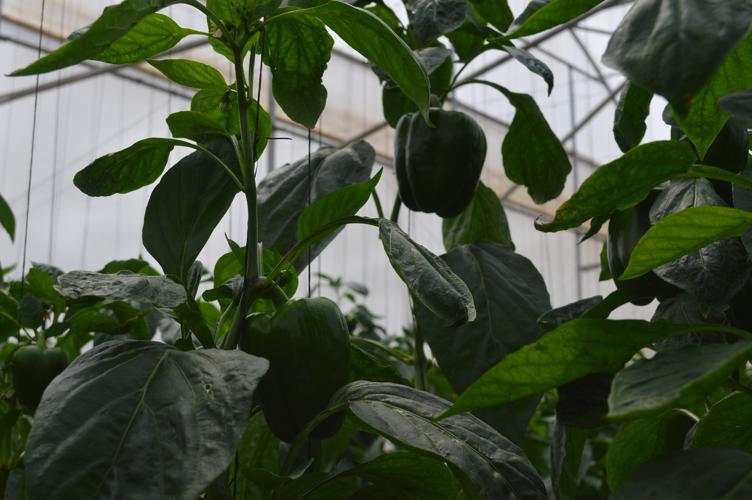BellPepper: (238, 300, 352, 441), (388, 108, 482, 219), (603, 192, 672, 300), (7, 347, 70, 409)
